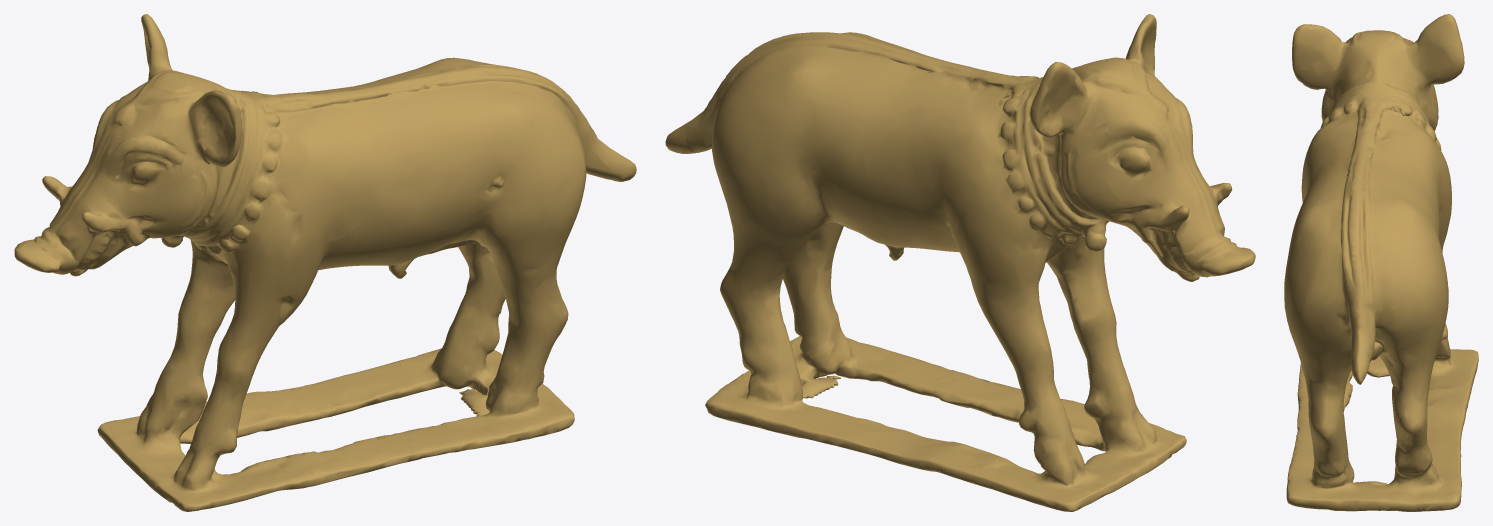
Rendered from Vainavam_Varaakar_30.glb.
3 views of the same model, side by side, from view 1: azimuth 30°, elevation 25°; view 2: azimuth 150°, elevation 25°; view 3: azimuth 270°, elevation 25° (orthographic). The views are drawn at different scales.
Parts seen in each view (by area): view 1: Vainavam_Varaakar_30; view 2: Vainavam_Varaakar_30; view 3: Vainavam_Varaakar_30.
Part boxes in pixels (box(x1,y1,x2,y2)): Vainavam_Varaakar_30: box(14, 14, 636, 511); Vainavam_Varaakar_30: box(665, 14, 1255, 511); Vainavam_Varaakar_30: box(1284, 14, 1478, 511).
Size of the model in its own units: 0.989 by 0.6764 by 0.3318.
